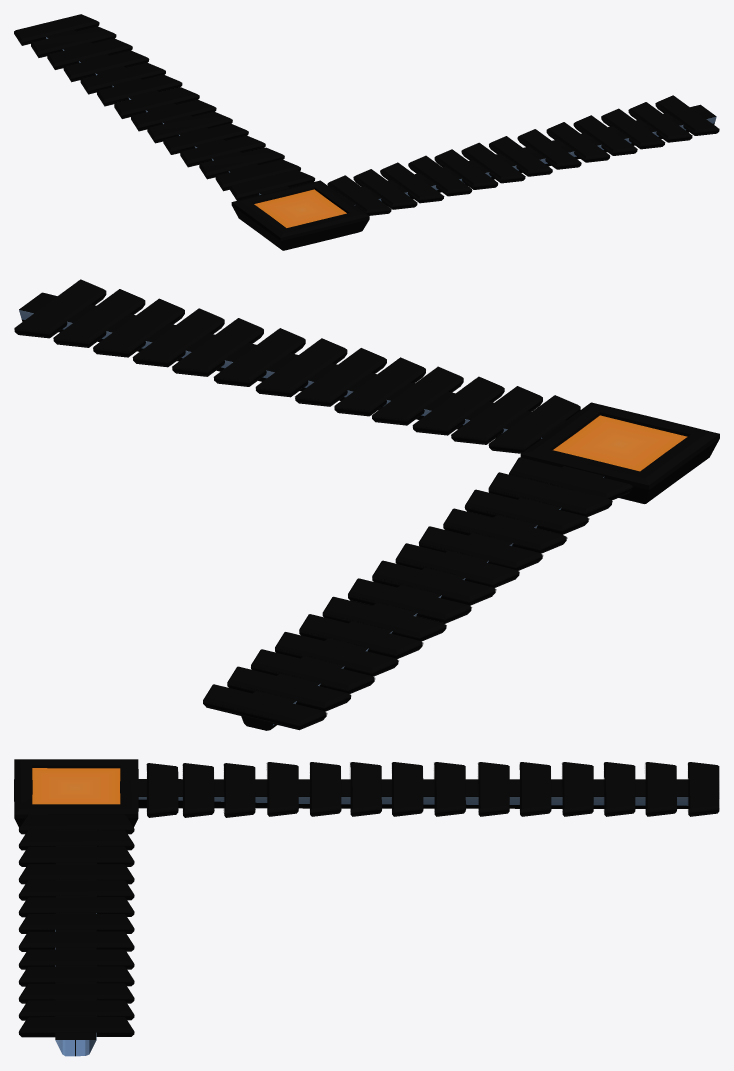
The model's file is sci-fi-stairs-32.glb.
The picture shows the model from 3 angles, top to bottom: view 1: azimuth 30°, elevation 25°; view 2: azimuth 150°, elevation 25°; view 3: azimuth 270°, elevation 25°; orthographic projection. The views are drawn at different scales.
Parts seen in each view (by area): view 1: SciFi_Stairs_32; view 2: SciFi_Stairs_32; view 3: SciFi_Stairs_32.
Part boxes in pixels (x1,y1,x2,y2): SciFi_Stairs_32: [14, 14, 719, 250]; SciFi_Stairs_32: [14, 279, 719, 730]; SciFi_Stairs_32: [14, 759, 719, 1056].
Size of the model in its own units: 13.35 by 0.5457 by 14.24.
Materials: 4 (3 with a texture image).
